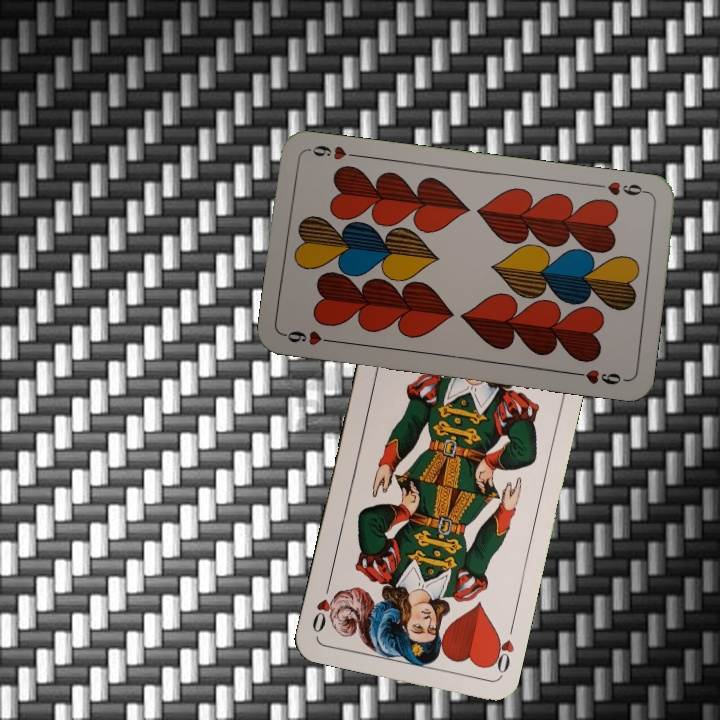H9: (281, 326, 340, 348), (592, 177, 651, 198)
HO: (486, 619, 517, 678)
